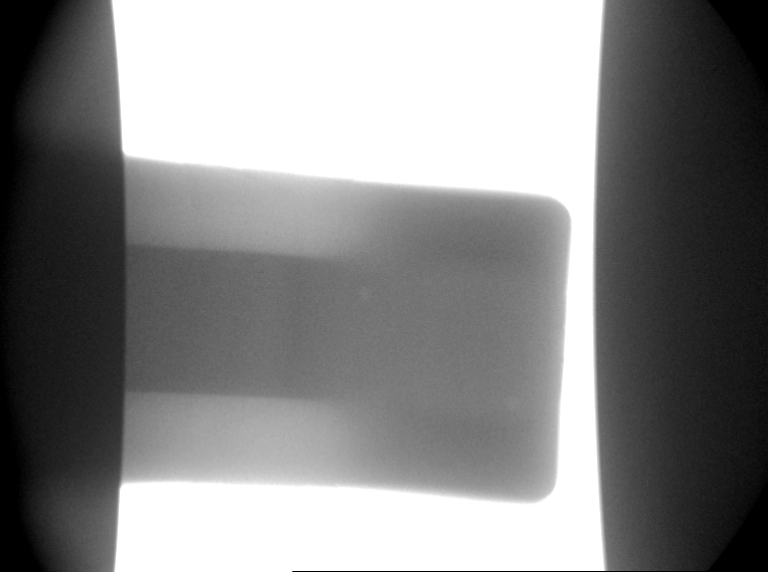defect: (353, 282, 379, 310)
